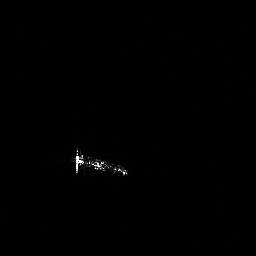ship: (73, 145, 130, 178)
